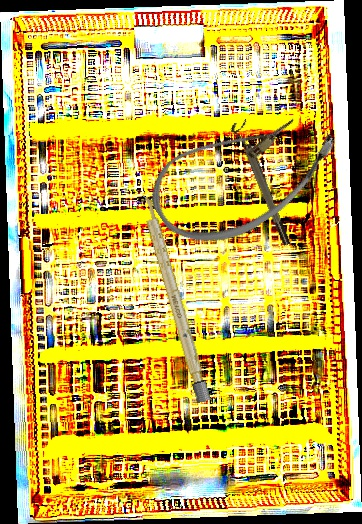Cannula: (137, 78, 350, 269)
Fixation Ring: (228, 119, 294, 249)
Scalpel Handle: (138, 192, 211, 404)
